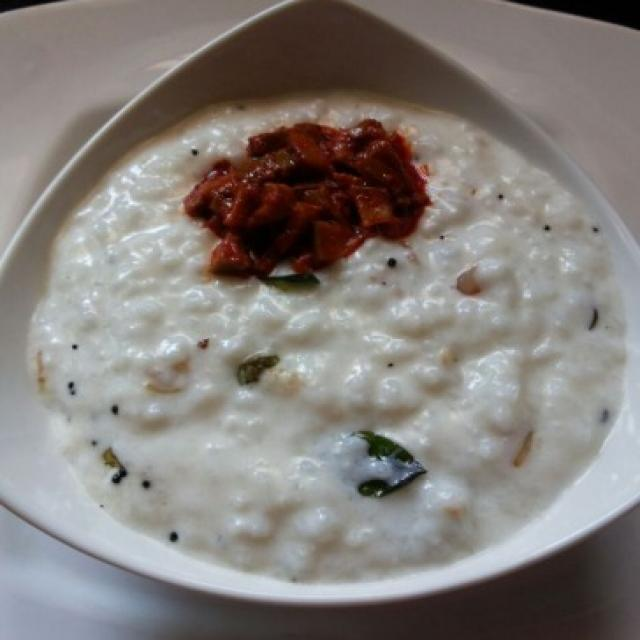CURD RICE: (24, 84, 631, 593)
PICKLE: (181, 112, 429, 279)
